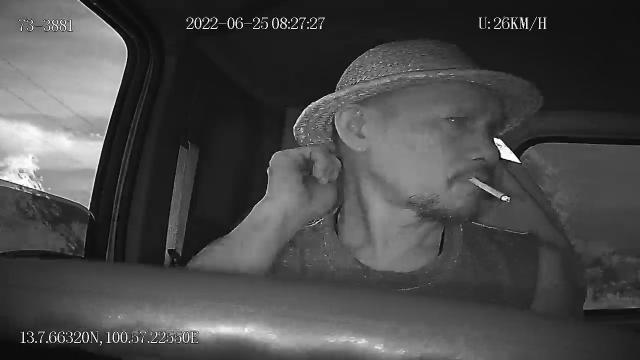Smoking: (468, 174, 510, 204)
